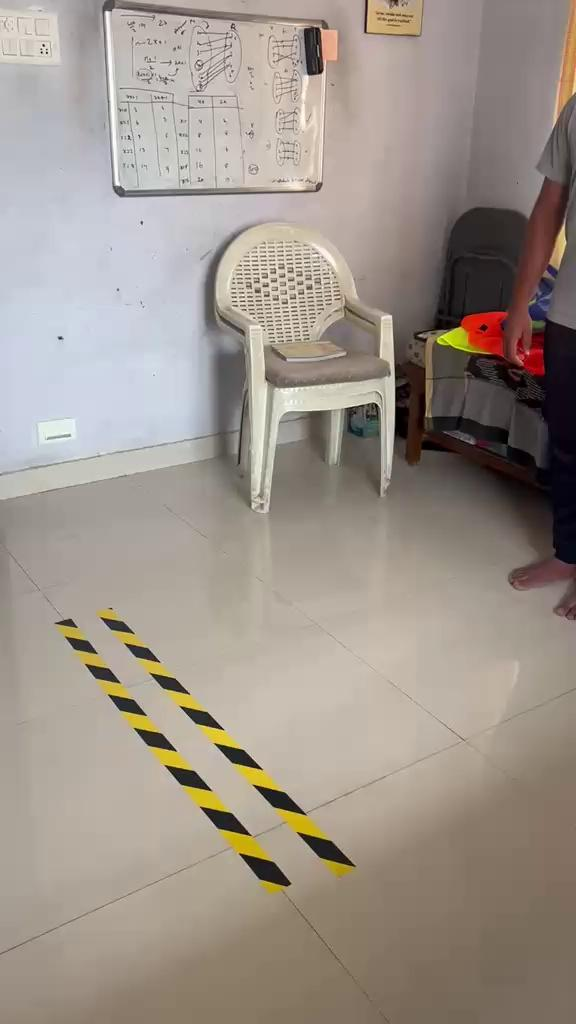BorderLine: (53, 606, 357, 896)
No_Vest: (537, 90, 576, 331)
Person: (501, 90, 576, 621)
